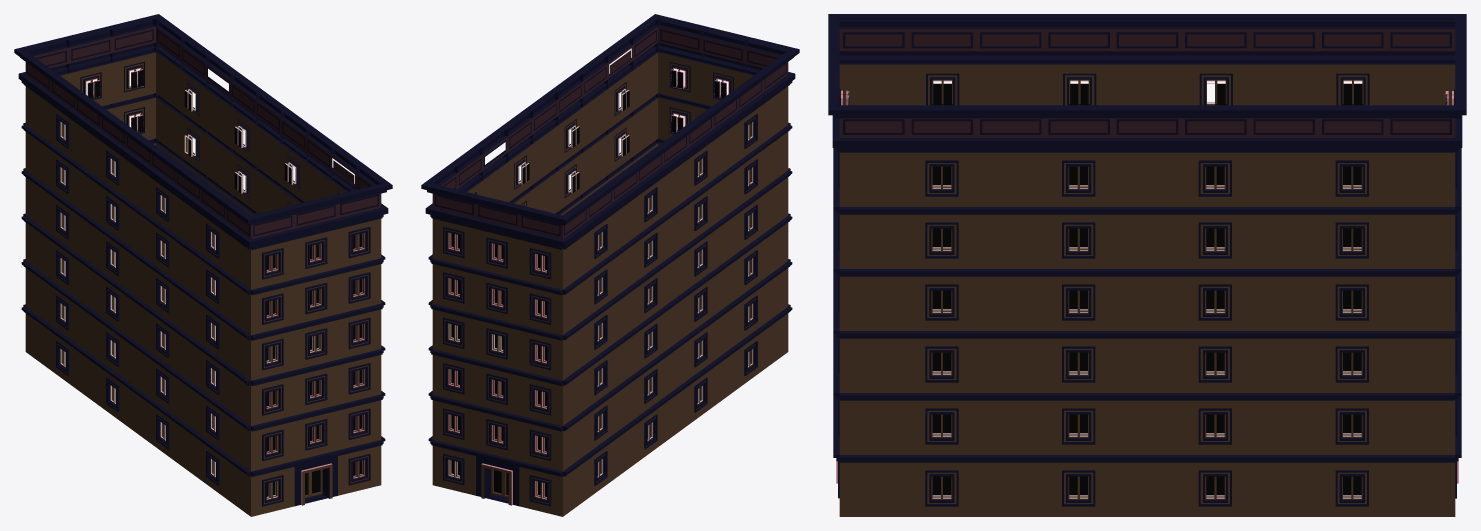
File: myBrownBuilding.fbx
The picture shows the model from 3 angles, left to right: view 1: azimuth 30°, elevation 25°; view 2: azimuth 150°, elevation 25°; view 3: azimuth 270°, elevation 25°; orthographic projection. The views are drawn at different scales.
Parts seen in each view (by area): view 1: Roof.194; view 2: Roof.194; view 3: Roof.194.
Part boxes in pixels (x1,y1,x2,y2): Roof.194: (14,14,392,516); Roof.194: (421,14,799,516); Roof.194: (828,14,1466,516).
Bounding box in the file's own units: 333 × 664 × 933.
